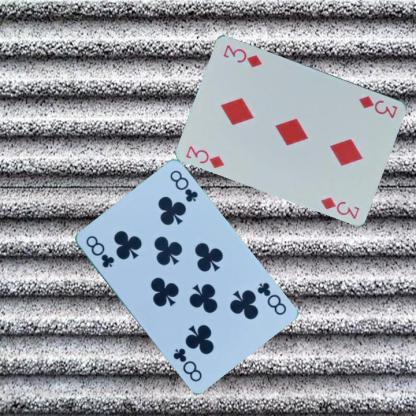3d: (183, 142, 226, 170), (356, 93, 399, 119)
8c: (82, 232, 115, 270), (254, 280, 287, 316)
